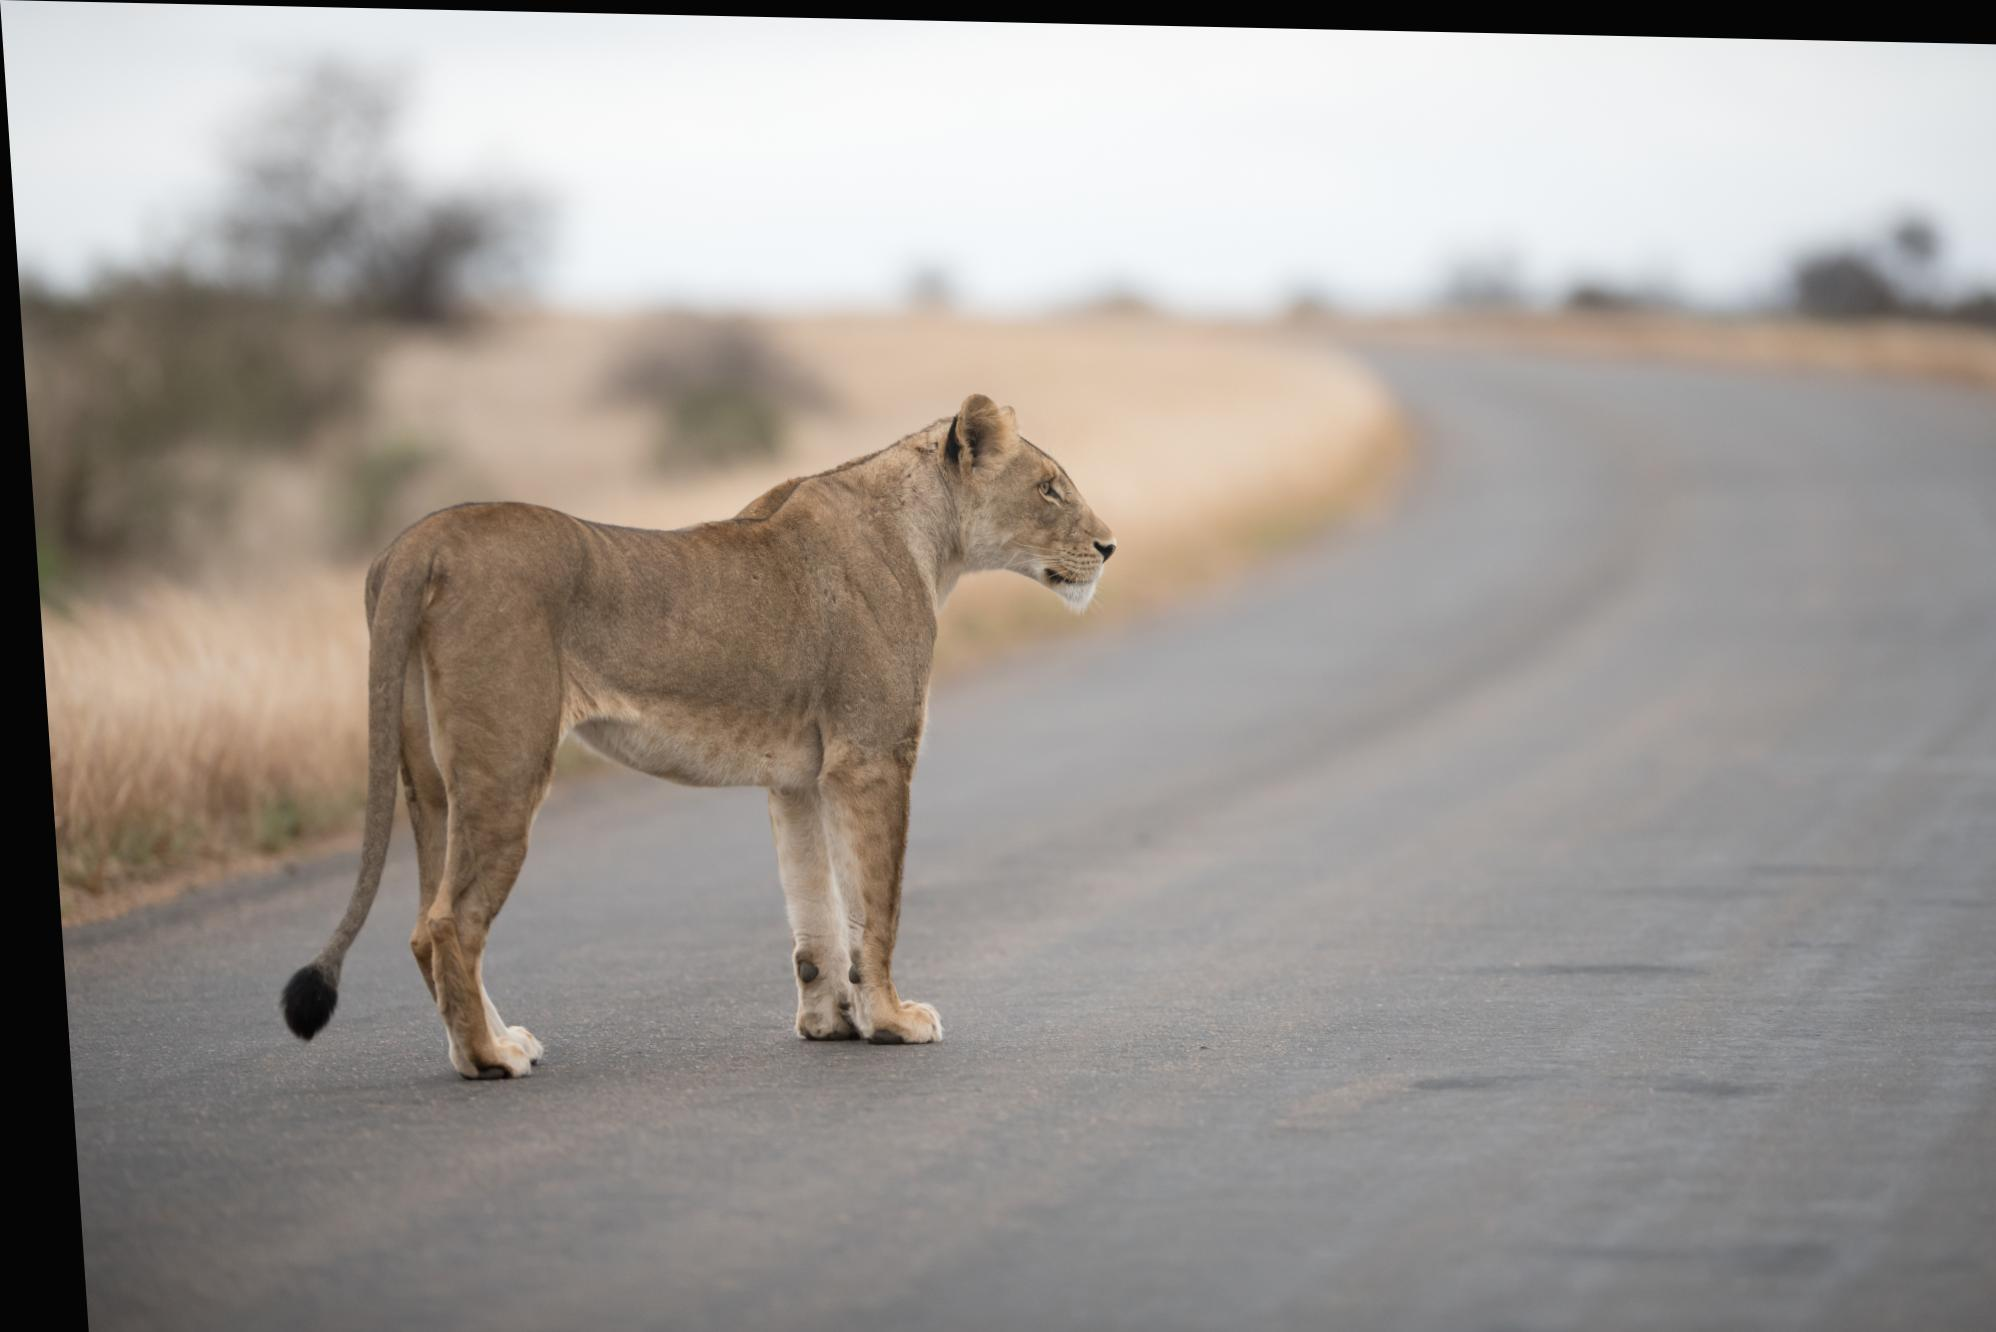lioness: (223, 367, 1144, 1100)
